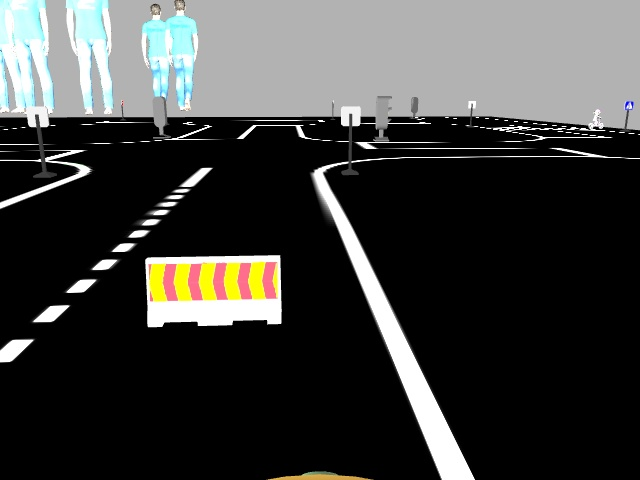ClosedRoadStand: (146, 258, 282, 324)
